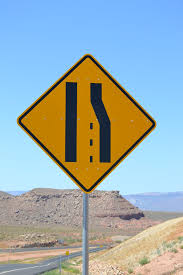laneEnds: (15, 52, 159, 196)
